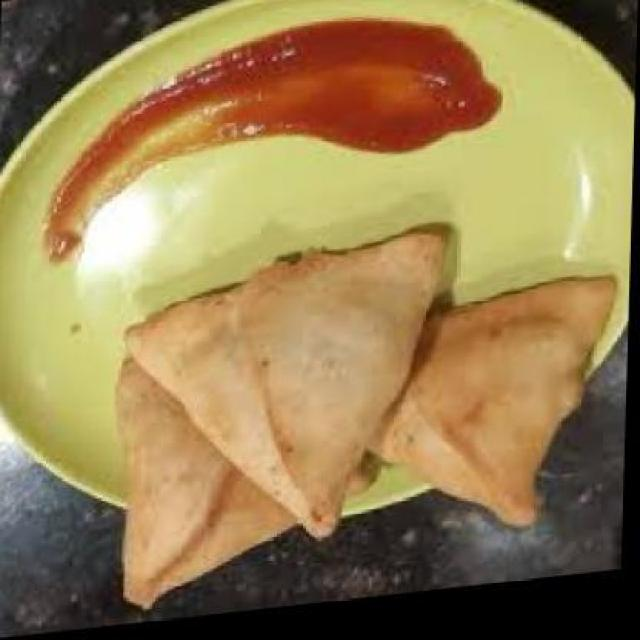samosa: (122, 237, 449, 560), (108, 330, 383, 616), (368, 285, 617, 552)
